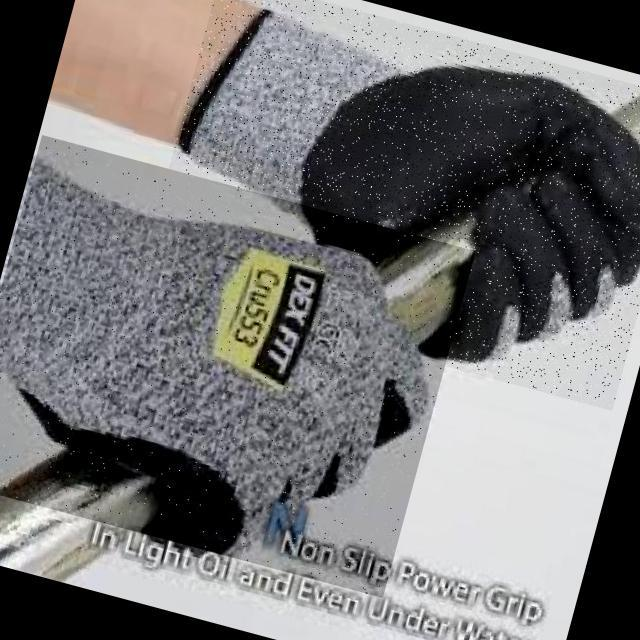Gloves: (0, 134, 475, 597), (137, 0, 640, 410)
